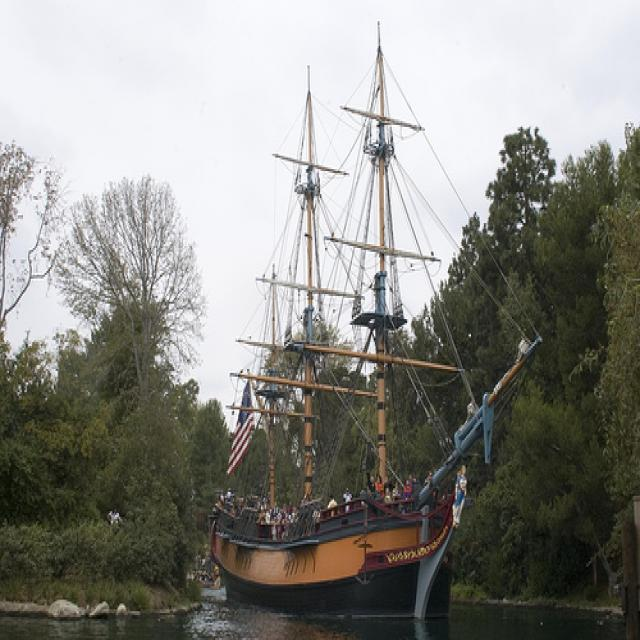Ship: (198, 52, 531, 607)
